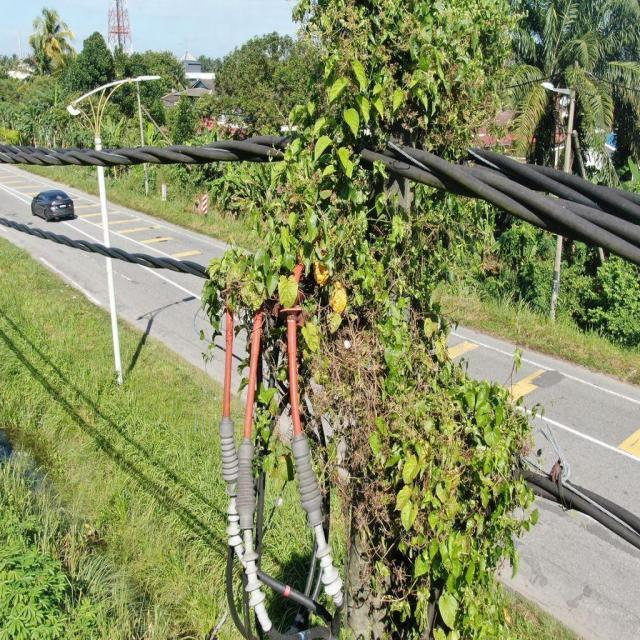critical vegetation: (212, 1, 546, 637)
